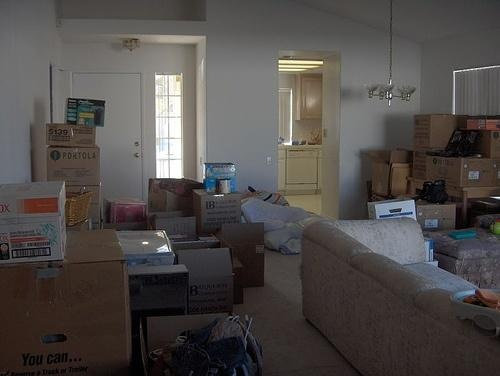sofa: (304, 218, 500, 376)
